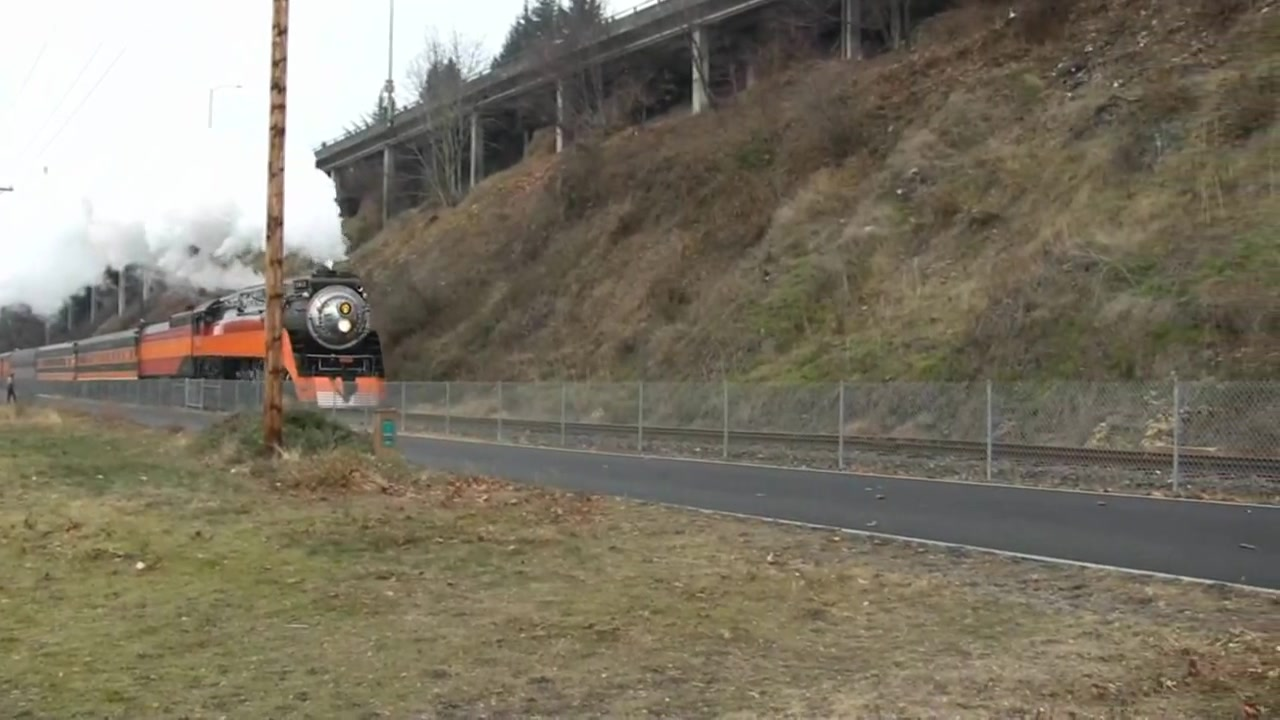train: (1, 266, 389, 428)
